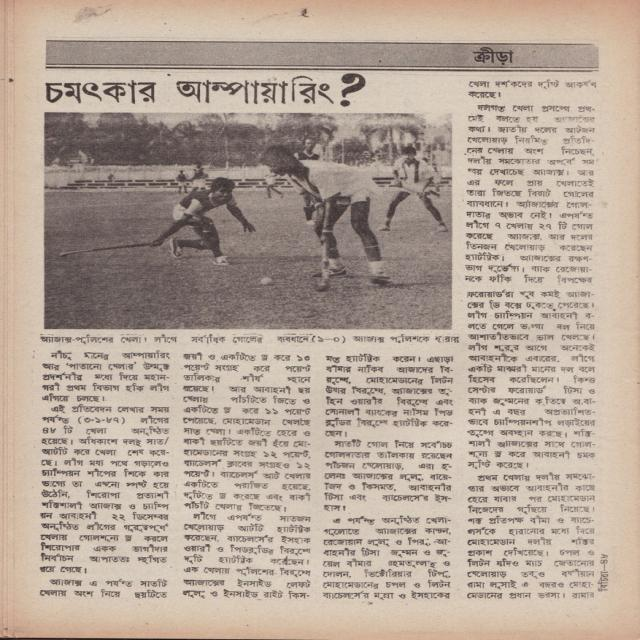caption: (28, 330, 465, 347)
image: (44, 114, 453, 330)
page number: (598, 551, 613, 565)
paragraph: (458, 103, 603, 472), (35, 401, 179, 578), (178, 350, 318, 513), (460, 471, 601, 610), (179, 510, 317, 605), (314, 514, 456, 603), (318, 352, 458, 438), (319, 438, 457, 514), (28, 349, 179, 406), (33, 575, 175, 604), (460, 76, 608, 101)
text: (459, 43, 521, 74), (592, 570, 613, 595)
title: (42, 67, 378, 116)
